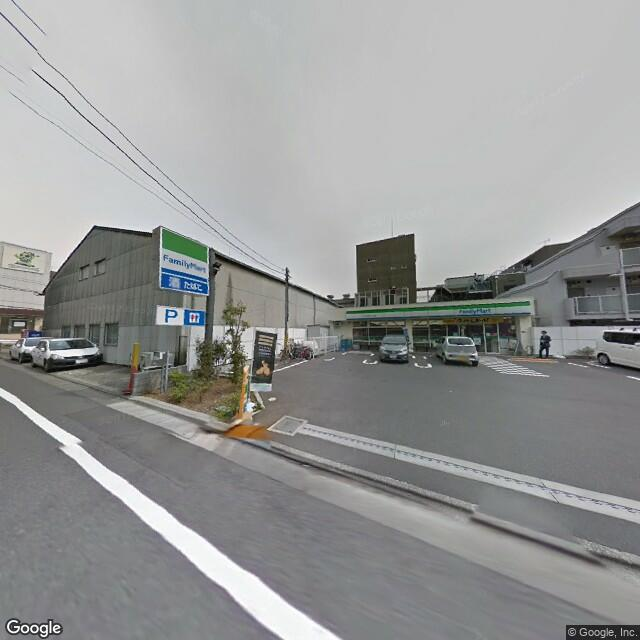family_mart: (344, 296, 532, 325), (158, 227, 209, 290), (457, 304, 496, 317)
